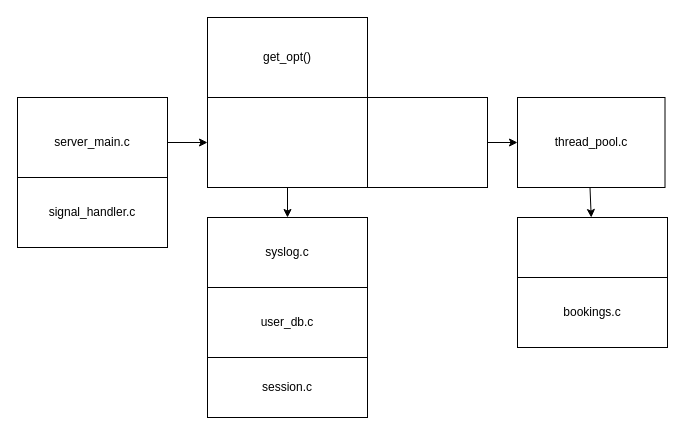
Some shapes in this 685 by 435 pixel diagram are drawn without their labels. Each missing label, with the box of its shape:
menu.c: (516, 216, 668, 278)
protocol.c: (366, 96, 488, 188)
server.c (poll): (206, 96, 368, 188)
